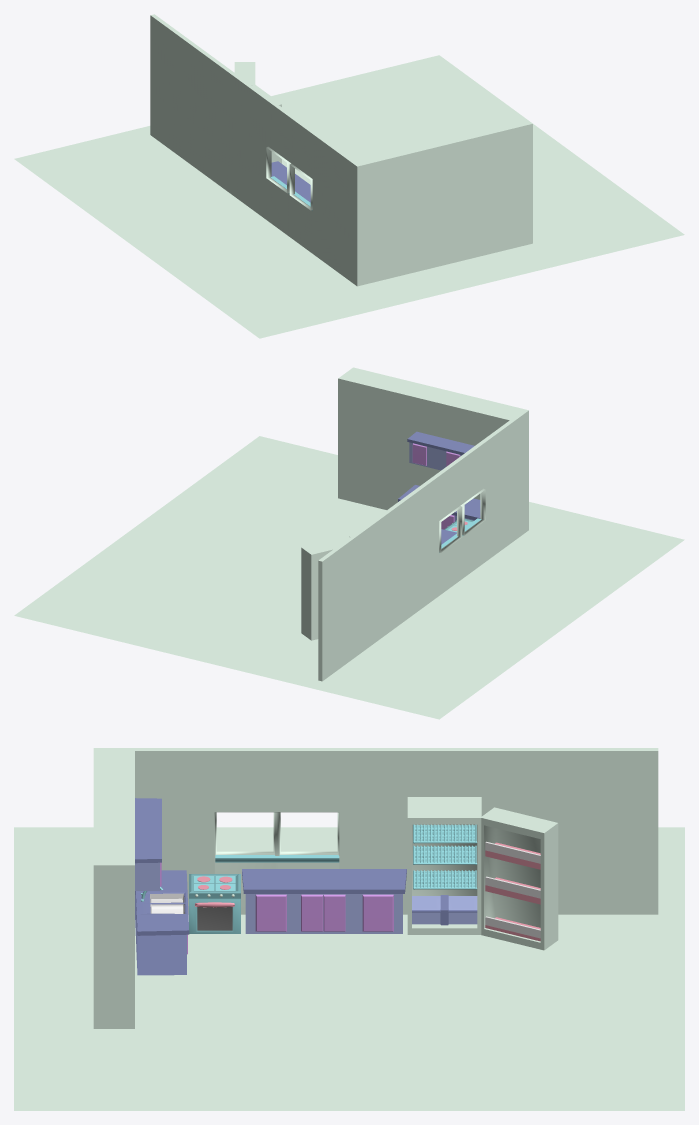
The model's file is kitchenFBX_wallfix.fbx.
3 renders of one model, top to bottom at view 1: azimuth 30°, elevation 25°; view 2: azimuth 150°, elevation 25°; view 3: azimuth 270°, elevation 25°, orthographic. The views are drawn at different scales.
Parts seen in each view (by area): view 1: pPlane1, pCube2, pCube4; view 2: pPlane1, pCube2, pCube22, pCube15; view 3: pPlane1, pCube2, pCube22, pCube4, pCube20, pCube11, pCube9, pCube15, pCube21, pCylinder30, pCylinder31, pCylinder11 (+8 smaller).
Part boxes in pixels (x1,y1,x2,y2): pPlane1: [14, 55, 684, 338]; pCube2: [150, 14, 532, 286]; pCube4: [271, 161, 310, 202]; pPlane1: [14, 436, 684, 719]; pCube2: [318, 367, 528, 681]; pCube22: [301, 536, 349, 640]; pCube15: [407, 431, 474, 470]; pPlane1: [14, 827, 684, 1110]; pCube2: [93, 748, 658, 1028]; pCube22: [481, 807, 558, 950]; pCube4: [242, 869, 406, 933]; pCube20: [407, 797, 481, 934]; pCube11: [135, 870, 189, 975]; pCube9: [189, 874, 240, 933]; pCube15: [135, 798, 161, 890]; pCube21: [412, 895, 477, 925]; pCylinder30: [413, 870, 477, 889]; pCylinder31: [413, 824, 477, 843]; pCylinder11: [413, 845, 477, 864].
Size of the model in its own units: 102 by 29.17 by 102.
